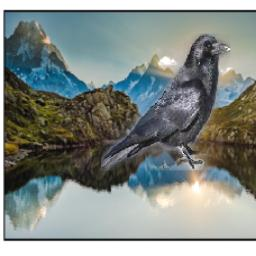Crow: (100, 34, 229, 170)
